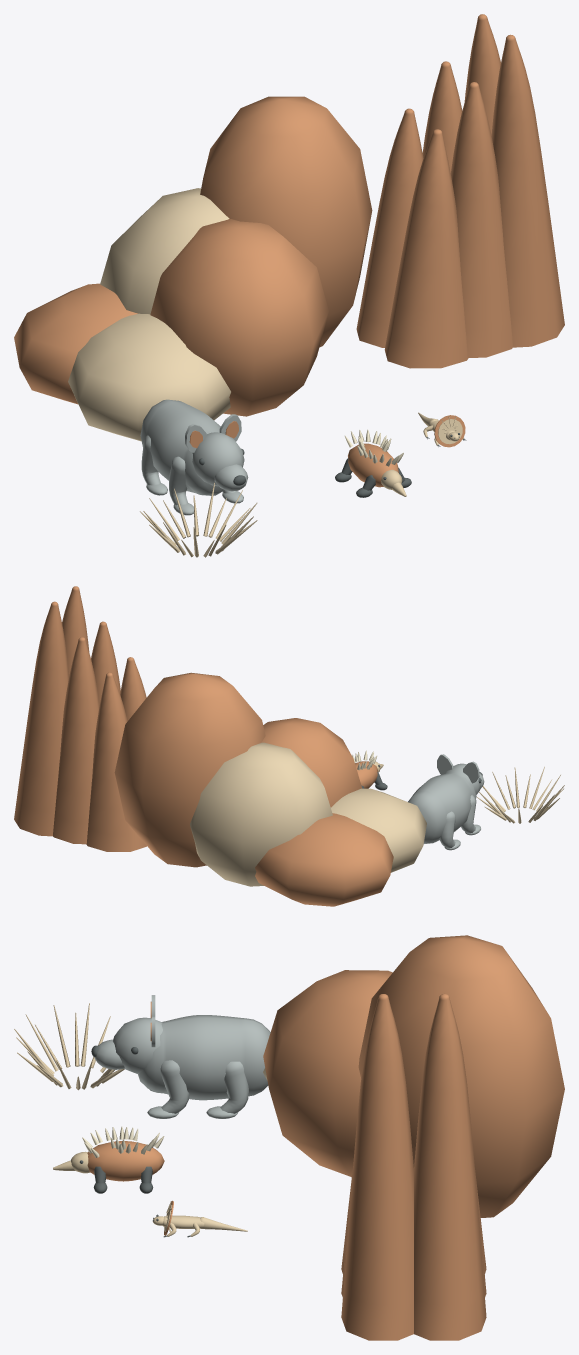
Rendered from outback-and-australian-wildlife-red-rock-outcrop-ba4653dd__5935.glb.
3 renders of one model, top to bottom at view 1: azimuth 30°, elevation 25°; view 2: azimuth 150°, elevation 25°; view 3: azimuth 270°, elevation 25°, orthographic. The views are drawn at different scales.
Parts seen in each view (by area): view 1: 000-red-sandstone-outcrop/0, 005-cathedral-termite-mound/0, 000-red-sandstone-outcrop/1, 001-wombat/0, 004-spinifex-clump/0, 002-echidna/0, 002-echidna/1; view 2: 000-red-sandstone-outcrop/0, 005-cathedral-termite-mound/0, 000-red-sandstone-outcrop/1, 001-wombat/0, 004-spinifex-clump/0, 002-echidna/0; view 3: 000-red-sandstone-outcrop/0, 005-cathedral-termite-mound/0, 001-wombat/0, 004-spinifex-clump/0, 002-echidna/0, 003-frilled-lizard/0, 002-echidna/1, 002-echidna/3.
Part boxes in pixels (left/top/right/bottom): 000-red-sandstone-outcrop/0: left=14, top=96, right=372, bottom=416; 005-cathedral-termite-mound/0: left=356, top=14, right=564, bottom=368; 000-red-sandstone-outcrop/1: left=68, top=188, right=230, bottom=441; 001-wombat/0: left=140, top=399, right=248, bottom=515; 004-spinifex-clump/0: left=140, top=482, right=257, bottom=557; 002-echidna/0: left=348, top=443, right=398, bottom=487; 002-echidna/1: left=345, top=429, right=403, bottom=466; 000-red-sandstone-outcrop/0: left=114, top=672, right=393, bottom=906; 005-cathedral-termite-mound/0: left=14, top=586, right=146, bottom=851; 000-red-sandstone-outcrop/1: left=190, top=742, right=426, bottom=886; 001-wombat/0: left=408, top=754, right=484, bottom=850; 004-spinifex-clump/0: left=477, top=766, right=564, bottom=823; 002-echidna/0: left=355, top=761, right=377, bottom=788; 000-red-sandstone-outcrop/0: left=263, top=935, right=564, bottom=1217; 005-cathedral-termite-mound/0: left=341, top=994, right=486, bottom=1340; 001-wombat/0: left=94, top=995, right=270, bottom=1118; 004-spinifex-clump/0: left=14, top=1003, right=124, bottom=1090; 002-echidna/0: left=87, top=1141, right=164, bottom=1181; 003-frilled-lizard/0: left=152, top=1201, right=247, bottom=1236; 002-echidna/1: left=82, top=1126, right=164, bottom=1157; 002-echidna/3: left=79, top=1160, right=153, bottom=1193.
Size of the model in its own units: 4.52 by 2.34 by 3.61.
